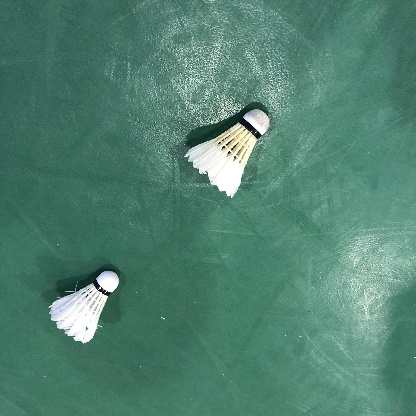ball_single: (184, 109, 269, 198), (49, 271, 119, 344)
